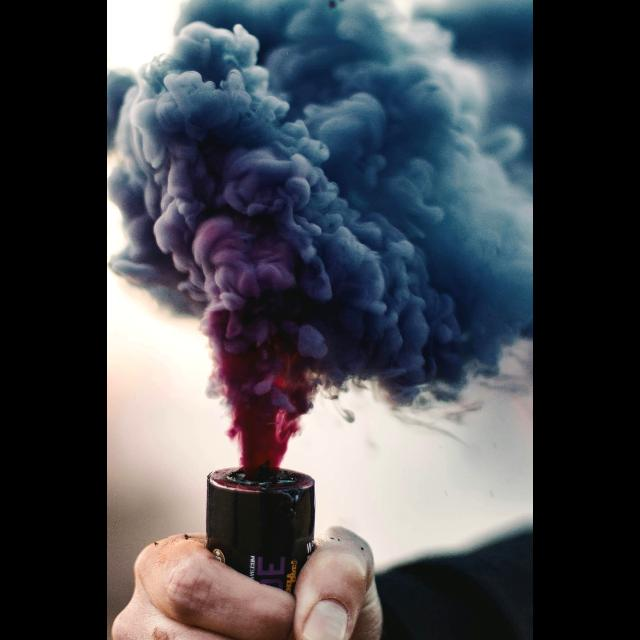smoke: (111, 0, 534, 462)
